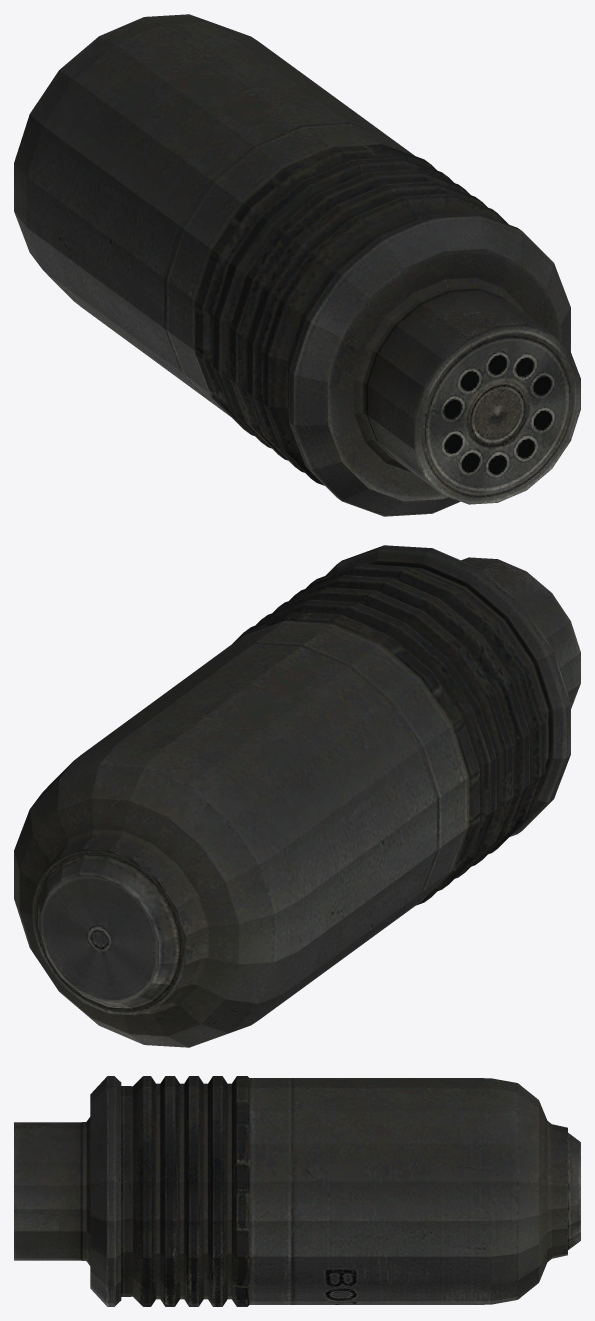
3 renders of one model, top to bottom at view 1: azimuth 30°, elevation 25°; view 2: azimuth 150°, elevation 25°; view 3: azimuth 270°, elevation 25°, orthographic. The views are drawn at different scales.
Visible parts, largest first — view 1: TW_5656eb674bdc2d35148b457c_PZ_Import; view 2: TW_5656eb674bdc2d35148b457c_PZ_Import; view 3: TW_5656eb674bdc2d35148b457c_PZ_Import.
Part boxes in pixels (box(x1,y1,x2,y2)): TW_5656eb674bdc2d35148b457c_PZ_Import: box(14, 14, 580, 516); TW_5656eb674bdc2d35148b457c_PZ_Import: box(14, 545, 580, 1047); TW_5656eb674bdc2d35148b457c_PZ_Import: box(14, 1076, 580, 1306).
Size of the model in its own units: 0.0229 by 0.057 by 0.0233.
Materials: 1 (1 with a texture image).
